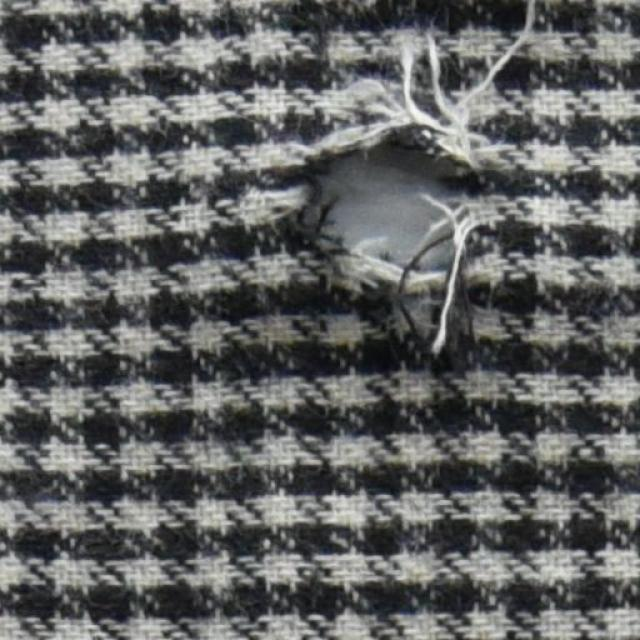Hole: (302, 141, 451, 259)
Snag: (321, 4, 541, 179)
